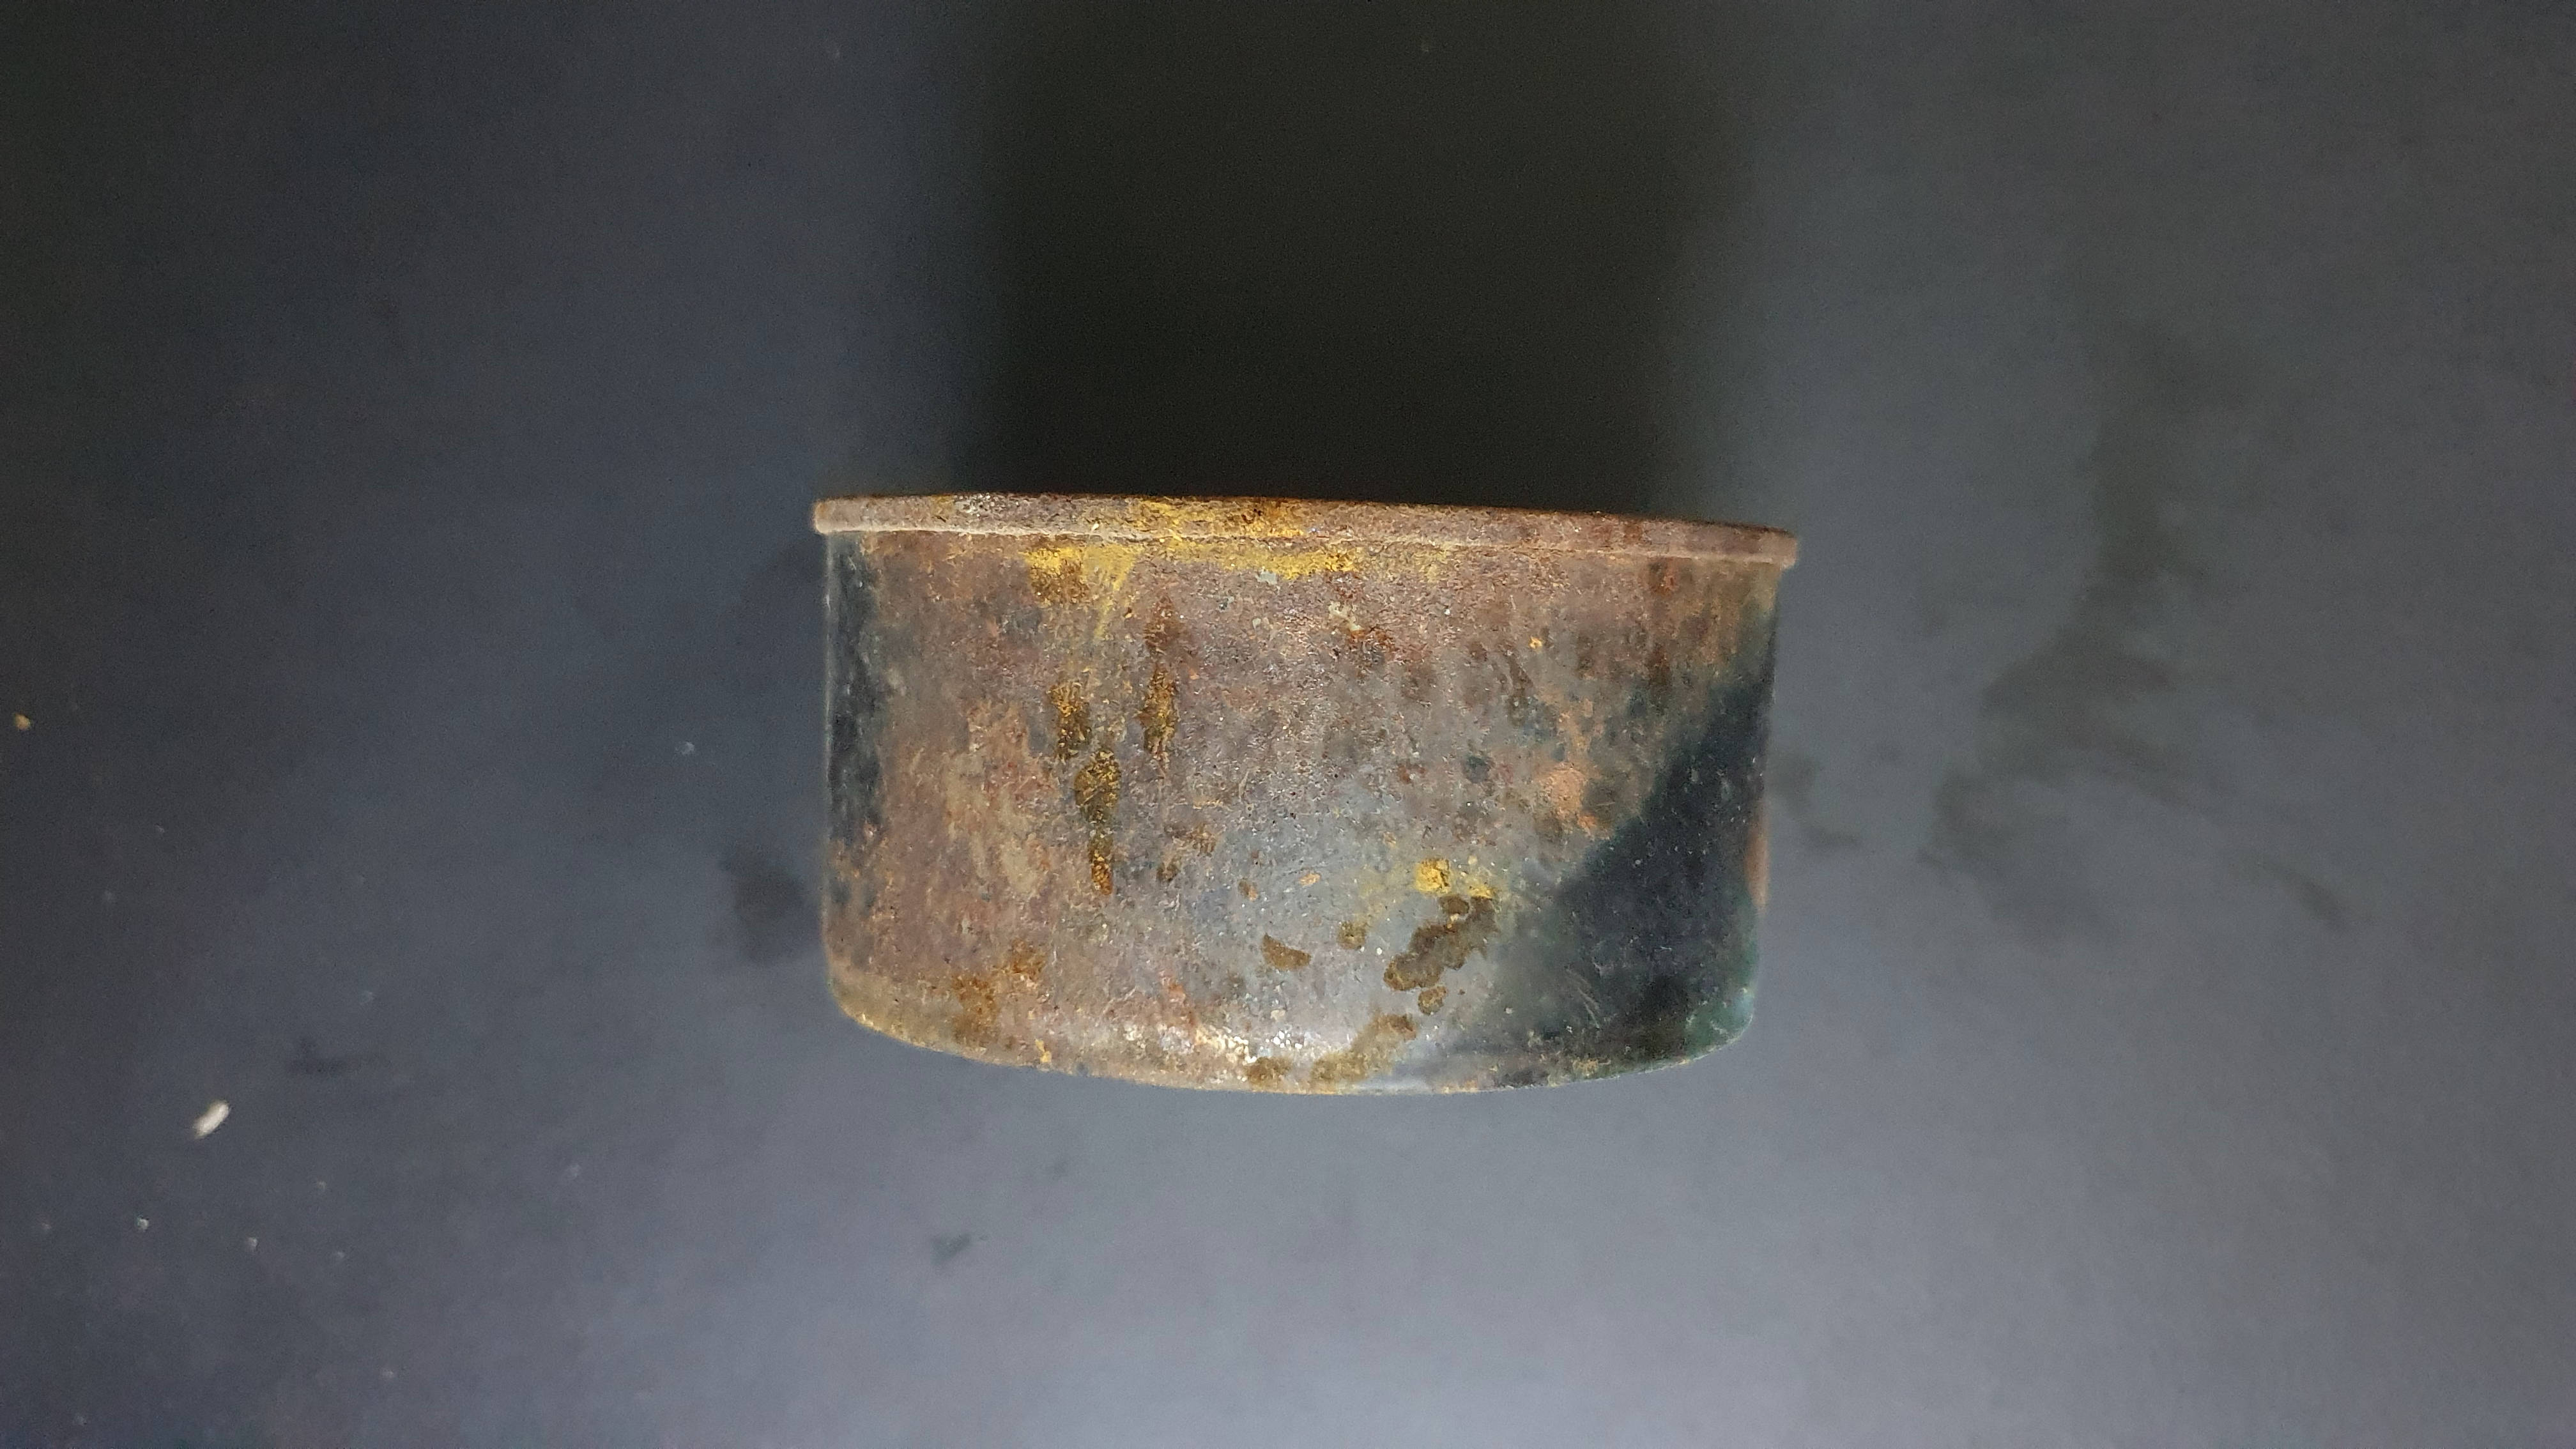metal: (757, 395, 1819, 1157)
